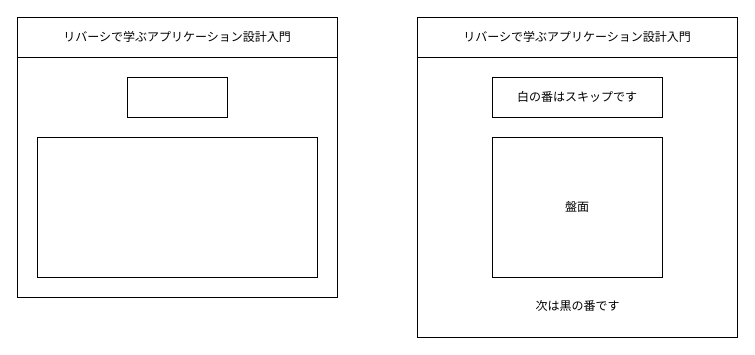
Some shapes in this 755 by 355 pixel diagram are drawn without their labels. Here are the shapes that lost their labels. From the top down, the box of each, then its label:
(126, 76, 228, 118): 対戦する
(36, 136, 318, 278): 対戦結果
